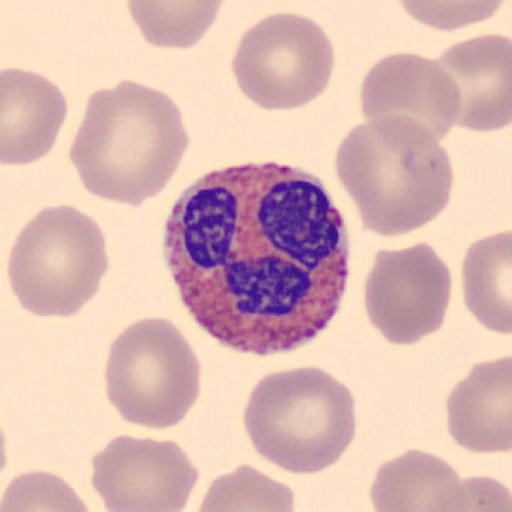RBC: (70, 77, 192, 207), (334, 113, 454, 238), (242, 364, 358, 475), (6, 204, 110, 318), (103, 316, 203, 432), (229, 10, 336, 113), (358, 50, 463, 146), (362, 240, 454, 347), (90, 433, 200, 512), (438, 31, 512, 134), (2, 66, 69, 166), (445, 356, 512, 456), (368, 447, 465, 512), (461, 228, 512, 336), (125, 0, 226, 51), (195, 464, 297, 512), (0, 468, 94, 512), (396, 0, 509, 34), (422, 474, 512, 512), (448, 474, 512, 512)
WBC: (163, 160, 350, 358)
